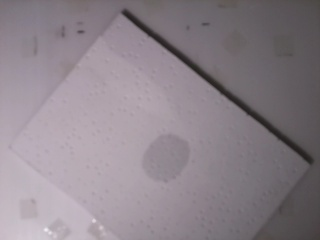Water_detected: (152, 140, 192, 186)
